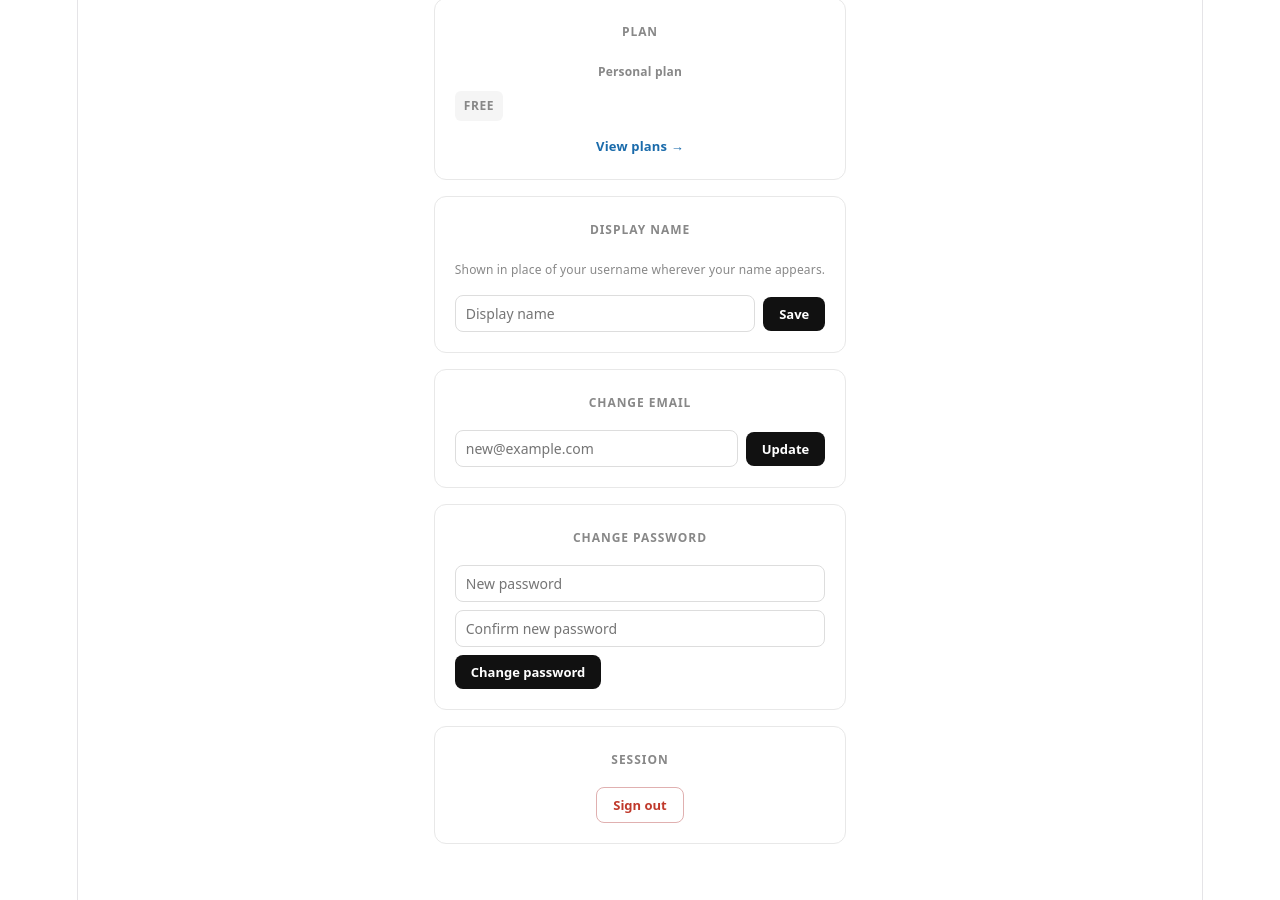
Test: Profile — change password › rejects mismatched passwords
The image size is (1280, 900).
(page scrolled)
Type "newpass1" into the password field with placeholder "New password". click: (640, 584)
box: [455,565,825,602]
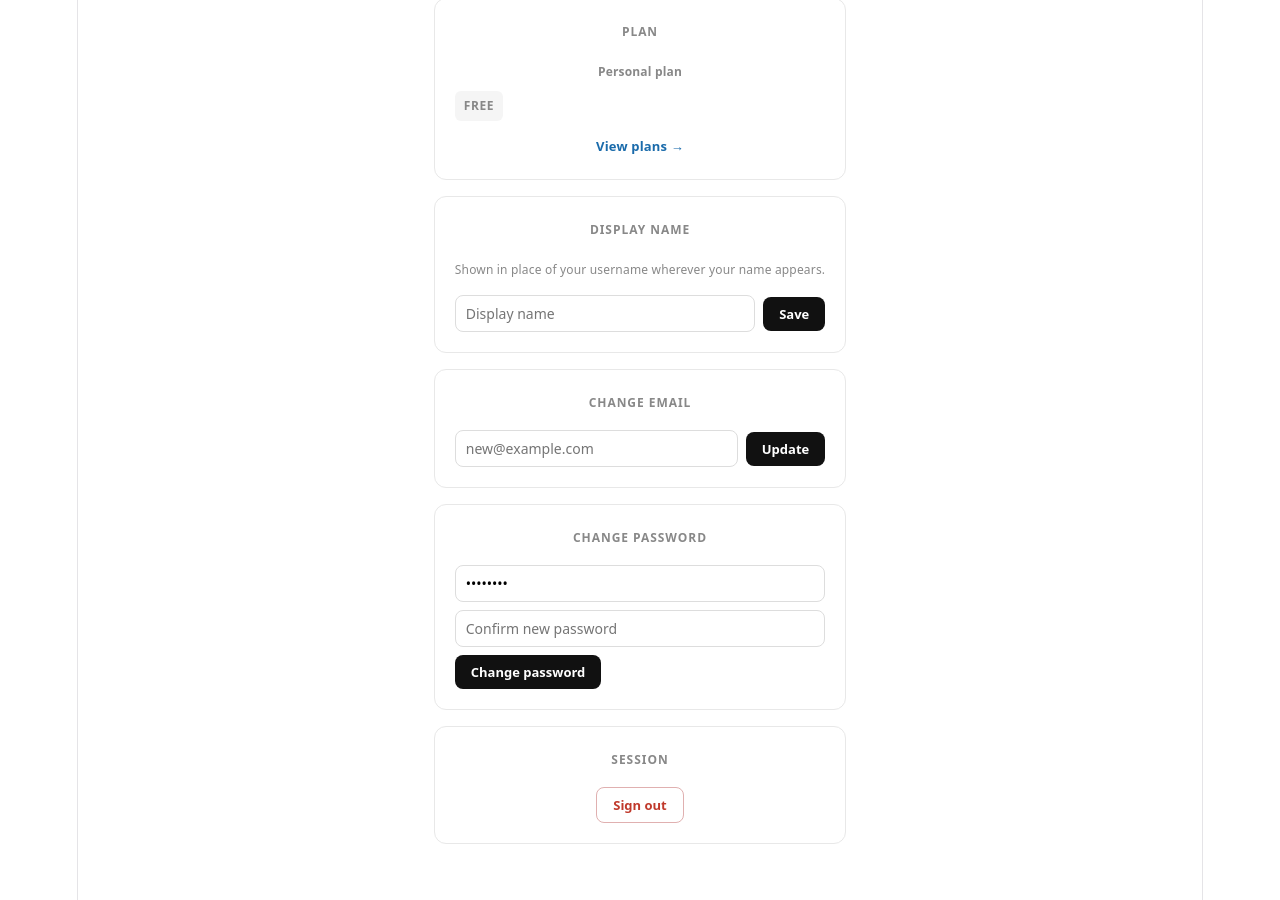
Type "newpass2" into the password field with placeholder "Confirm new password". click: (640, 629)
box: [455,610,825,647]
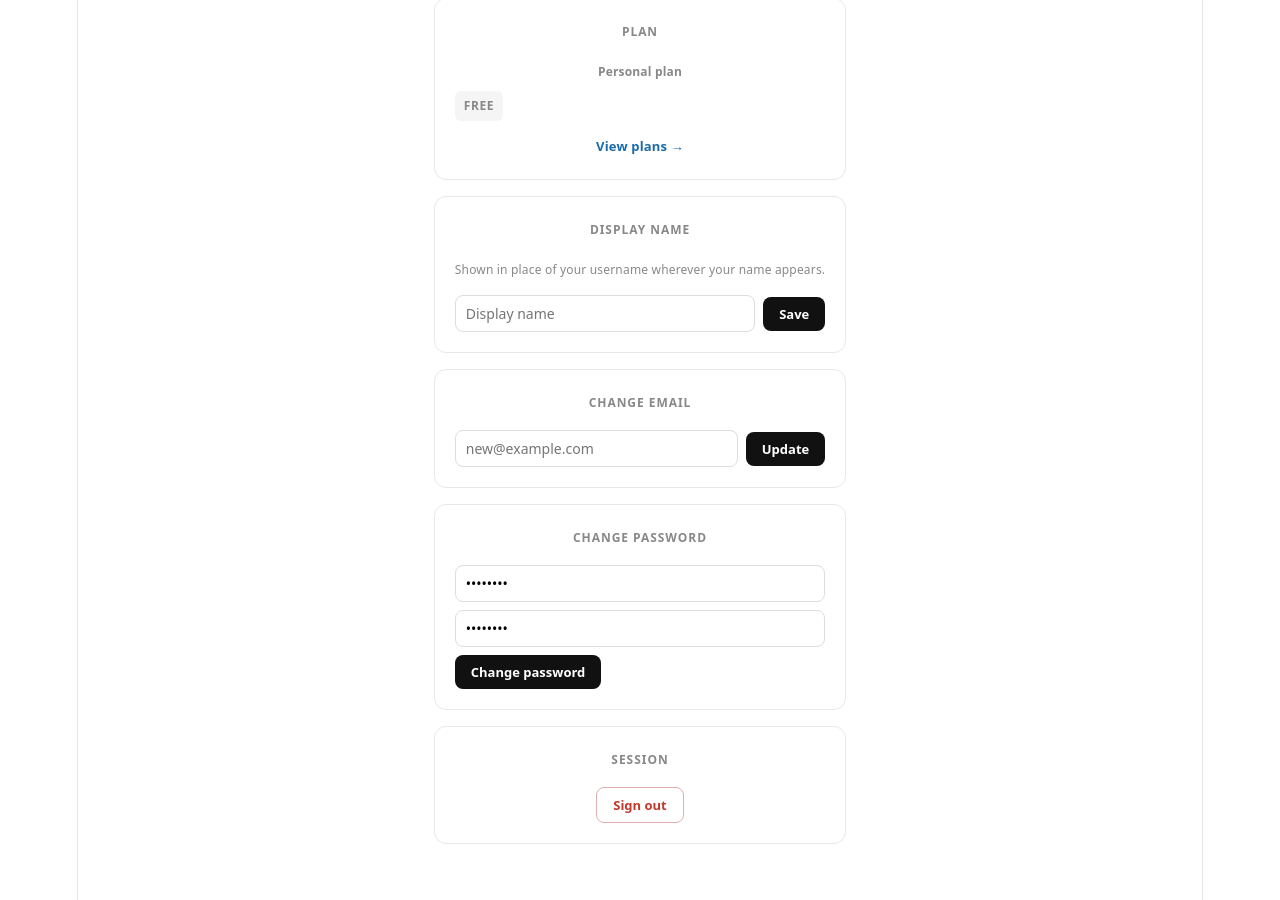
Click the button "Change password". click: (528, 672)
box: [455,655,601,689]
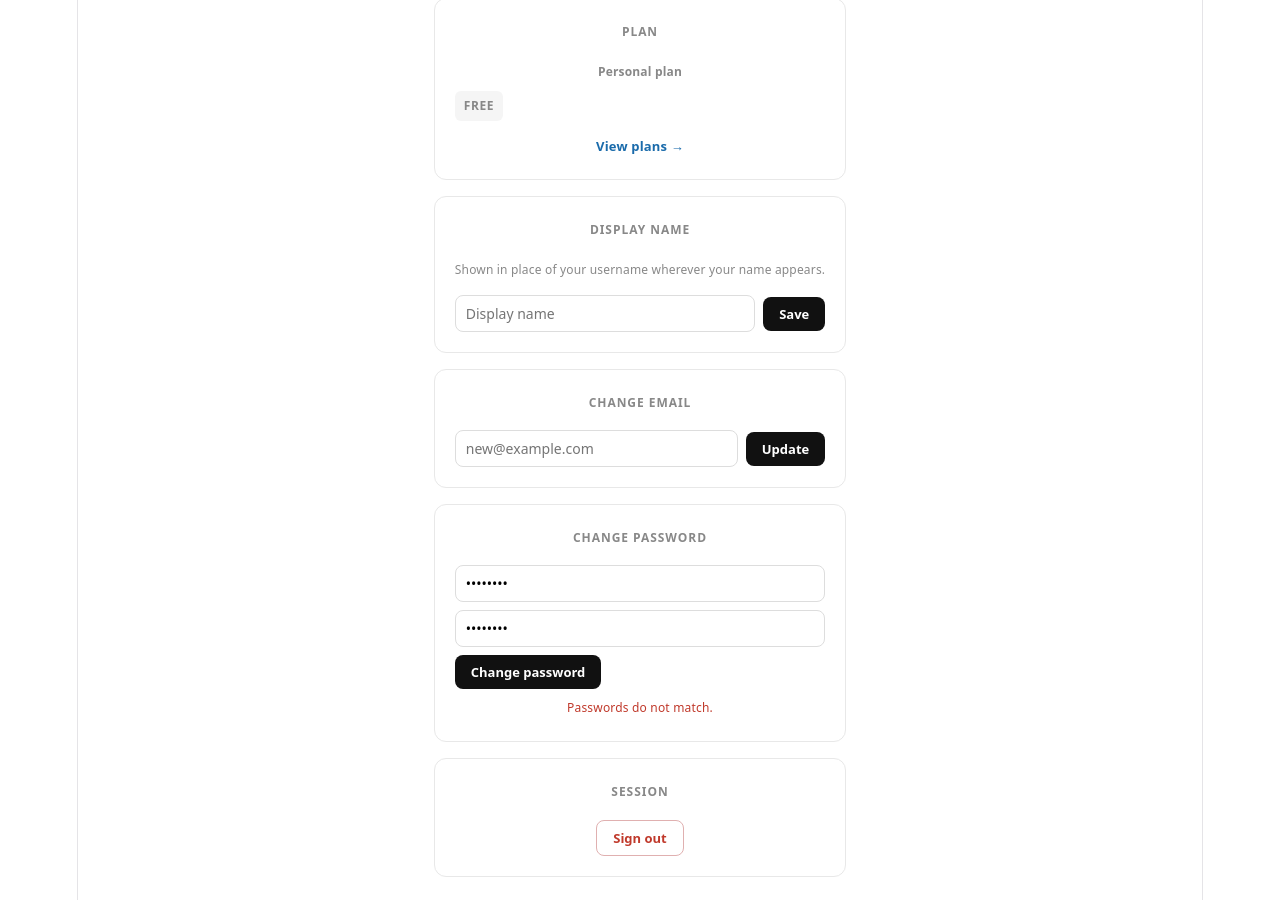
Result: the text "Passwords do not match." is shown at [567,699,713,716]
